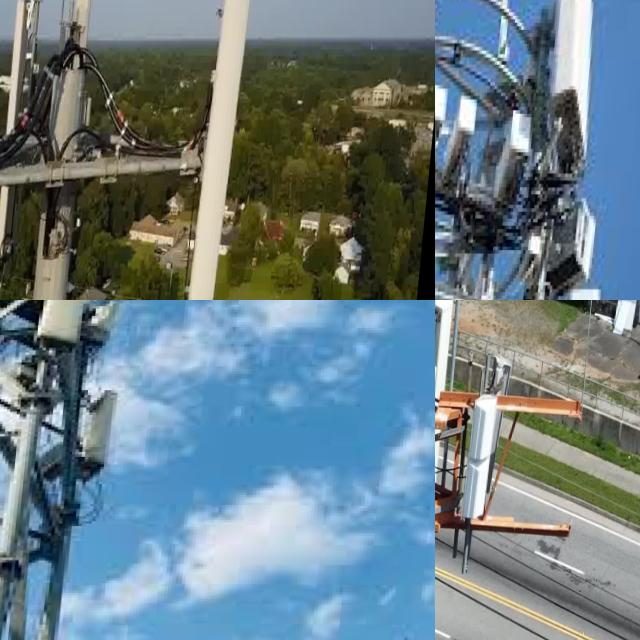GSM Antenna: (198, 0, 258, 300), (540, 0, 622, 170), (0, 0, 42, 272), (465, 386, 507, 525), (68, 0, 100, 159), (41, 300, 101, 360), (435, 358, 450, 570), (435, 300, 460, 401)
Microwave Antenna: (103, 300, 128, 359)
